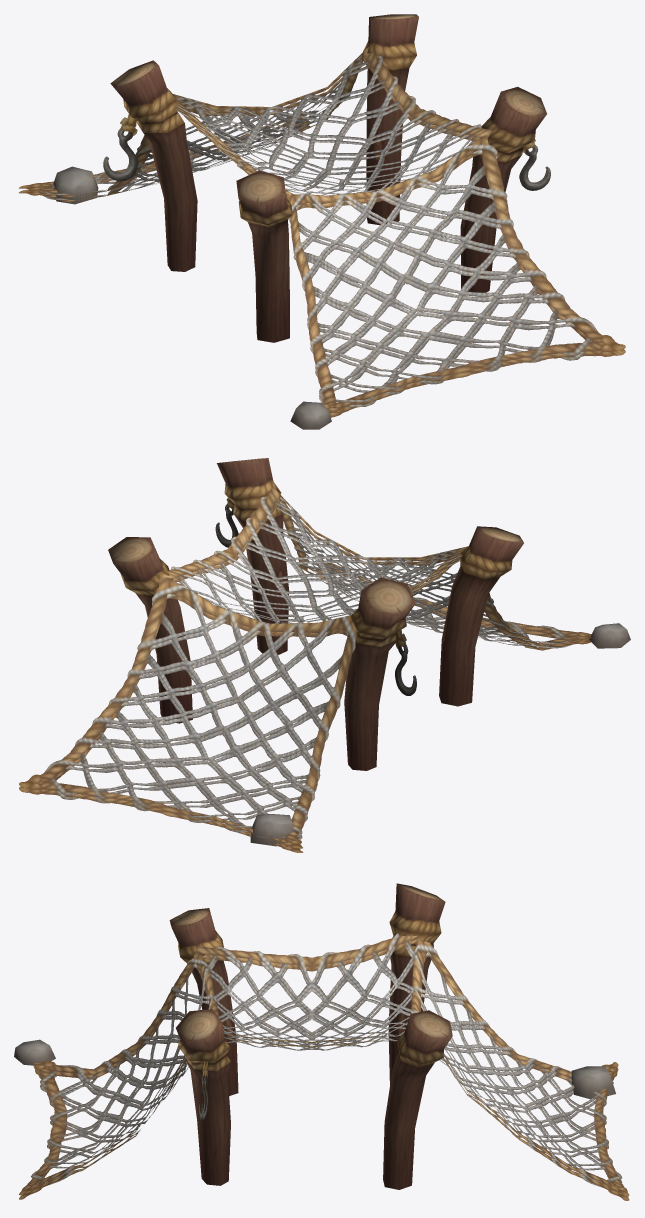
File: scene_lawennushandao_yuwang01.FBX
3 renders of one model, top to bottom at view 1: azimuth 30°, elevation 25°; view 2: azimuth 150°, elevation 25°; view 3: azimuth 270°, elevation 25°, orthographic. The views are drawn at different scales.
Parts seen in each view (by area): view 1: scene_lawennushandao_yuwang01; view 2: scene_lawennushandao_yuwang01; view 3: scene_lawennushandao_yuwang01.
Part boxes in pixels (<box>): scene_lawennushandao_yuwang01: <box>19,14,625,429</box>; scene_lawennushandao_yuwang01: <box>19,458,630,852</box>; scene_lawennushandao_yuwang01: <box>14,883,629,1200</box>.
Size of the model in its own units: 342 by 191 by 553.
